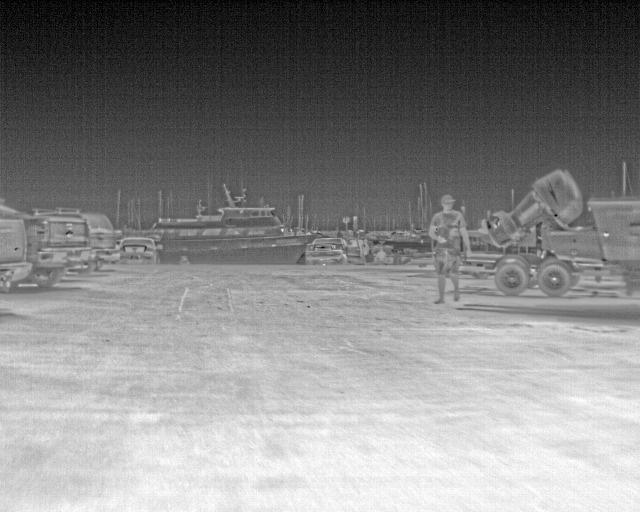bicycle: (27, 216, 90, 290), (46, 208, 120, 271), (0, 218, 38, 293), (305, 234, 369, 266), (118, 234, 163, 264)
empty: (428, 194, 473, 304)
